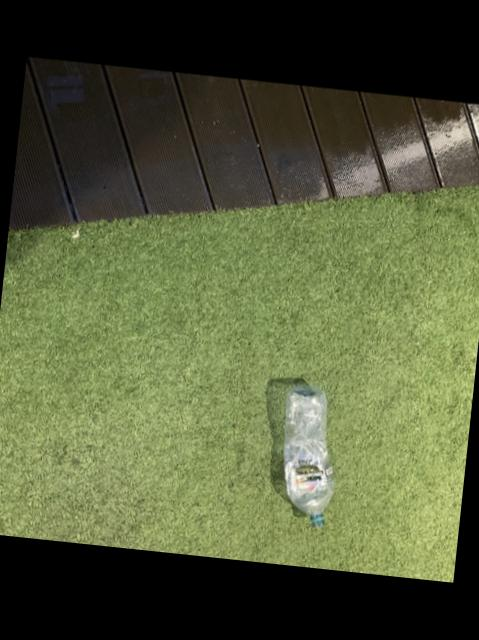plastic: (284, 386, 334, 529)
